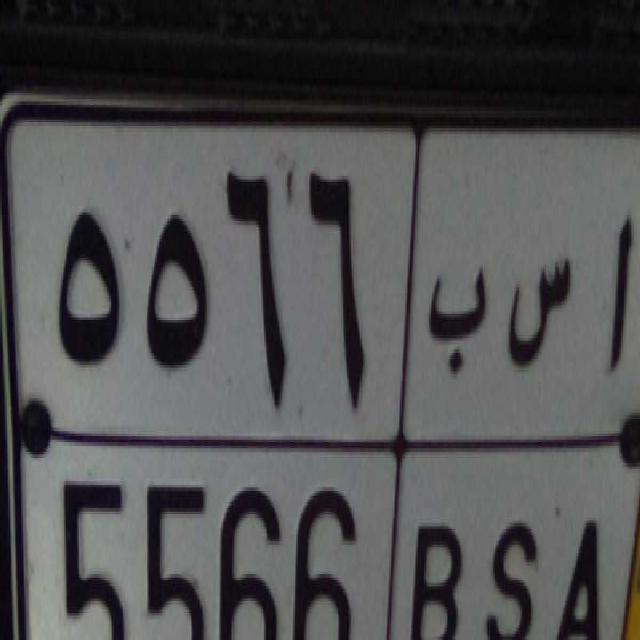license_plate: (48, 429, 637, 640)
